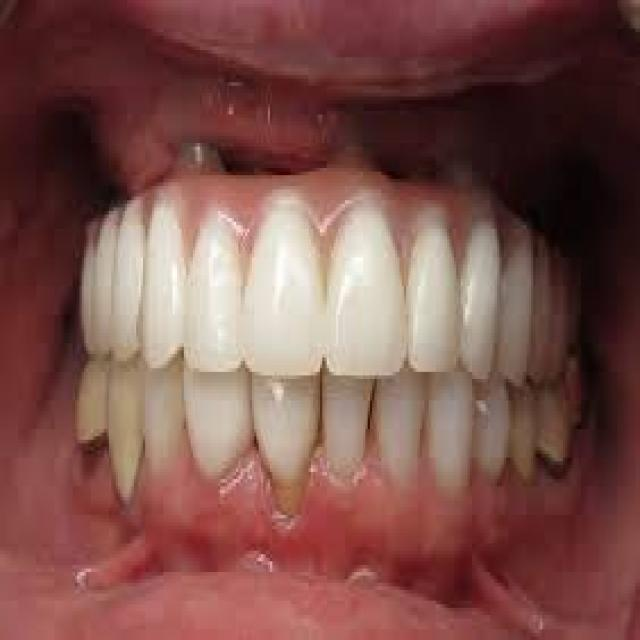tooth: (322, 196, 411, 382), (243, 211, 327, 379), (184, 204, 245, 379), (182, 340, 254, 476), (136, 189, 188, 372), (250, 354, 322, 483), (408, 222, 461, 375), (372, 354, 427, 490), (427, 354, 479, 497), (492, 214, 534, 372), (318, 350, 372, 472), (463, 208, 499, 386), (134, 347, 186, 454), (90, 193, 122, 361), (472, 368, 513, 490), (118, 197, 143, 368)
